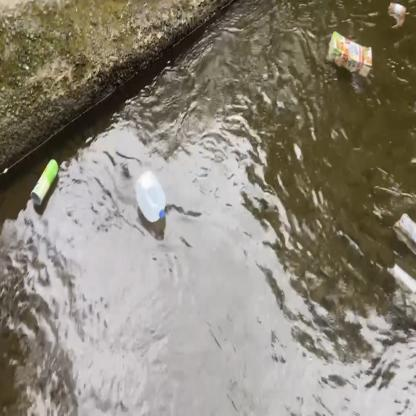trash: (324, 28, 375, 84), (133, 166, 169, 227), (27, 156, 60, 212), (394, 209, 416, 244), (387, 0, 407, 22)
